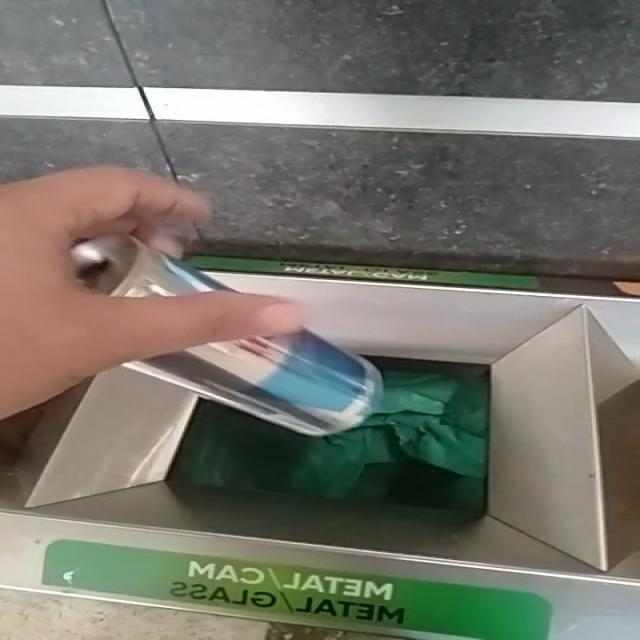Bin: (0, 272, 639, 640)
Metal: (124, 330, 383, 436), (111, 244, 229, 297)
